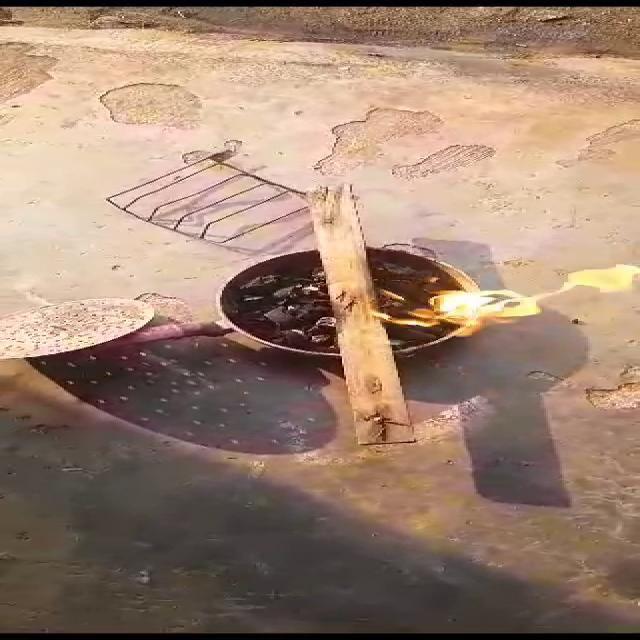Fire: (350, 263, 640, 334)
